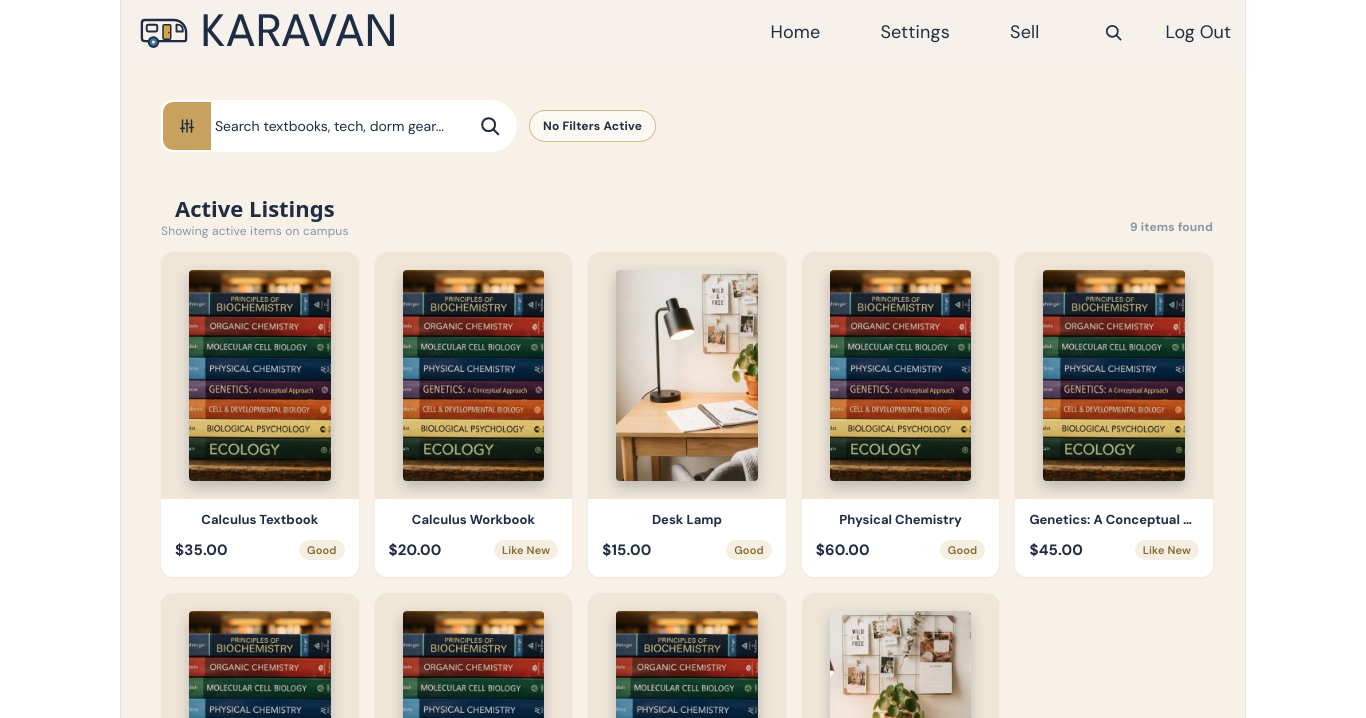
ProductSearch category filtering › uses OR for multiple categories
This screenshot has width=1366, height=718.
Step 1. Click the button named "Open filters" → x=187, y=126, box x1=163 y1=102 x2=211 y2=150
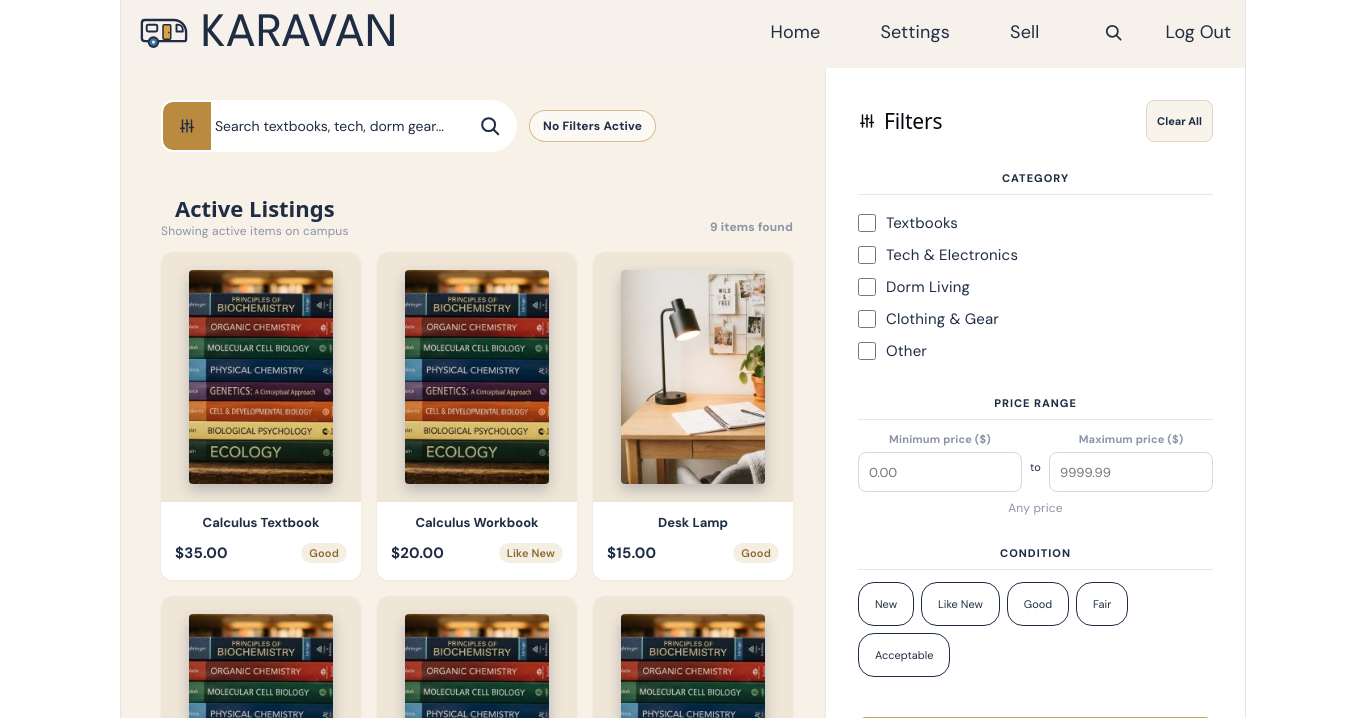
Step 2. Click the checkbox labelled "Textbooks" → x=867, y=223, box x1=858 y1=214 x2=876 y2=232
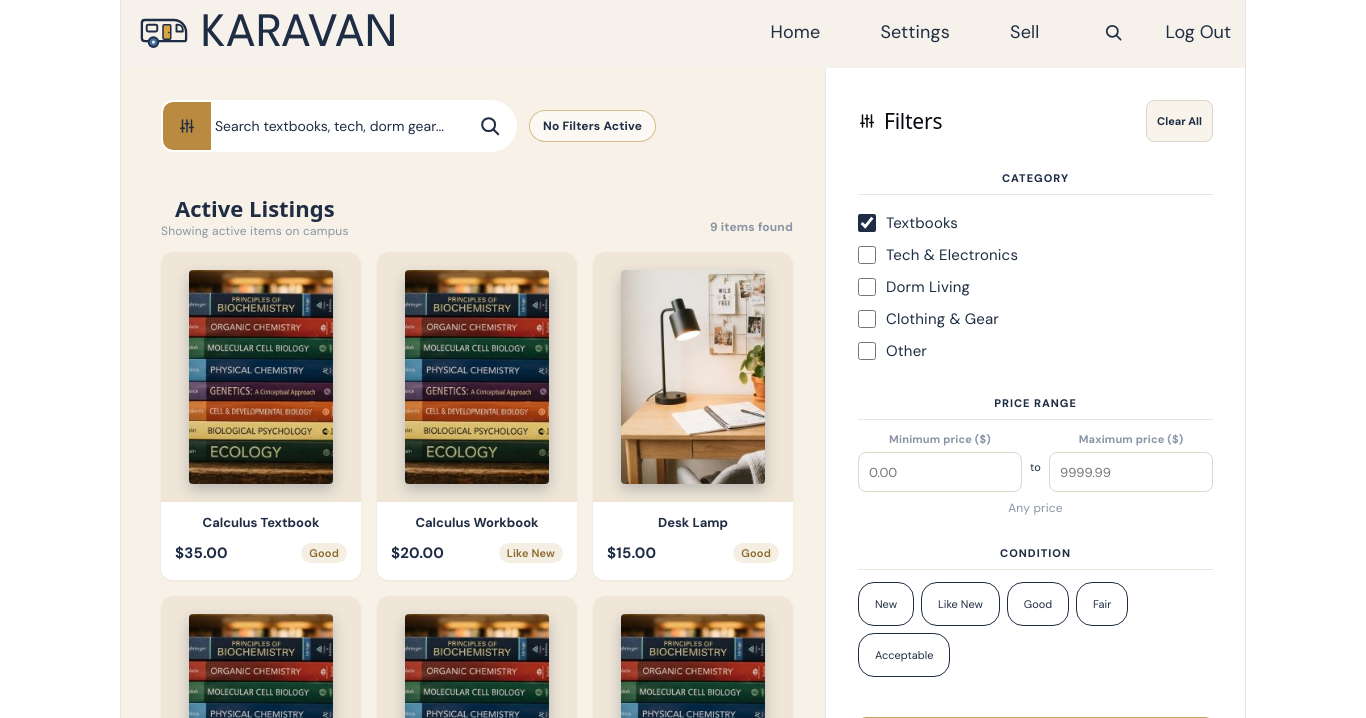
Step 3. Click the checkbox labelled "Dorm Living" → x=867, y=287, box x1=858 y1=278 x2=876 y2=296
(page scrolled)
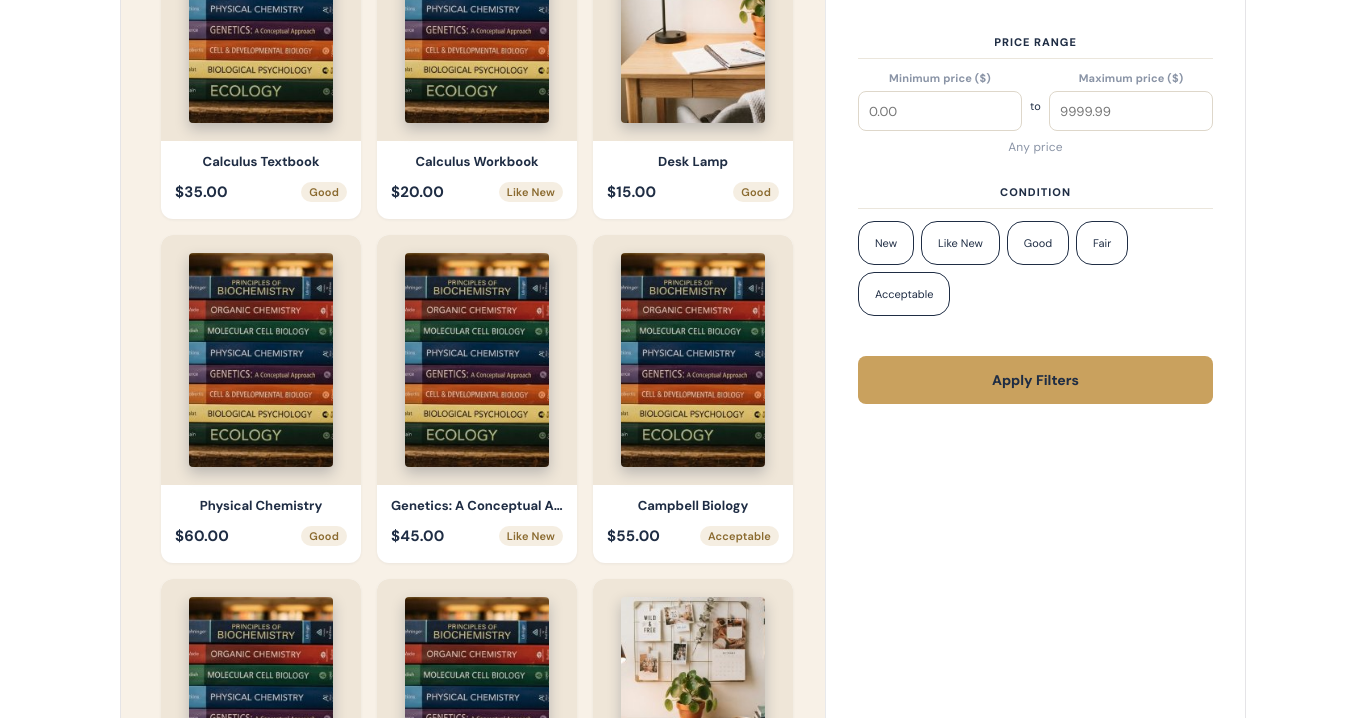
Step 4. Click the button "Apply Filters" → x=1036, y=380, box x1=858 y1=356 x2=1213 y2=404
Wait 350 ms
(page scrolled)
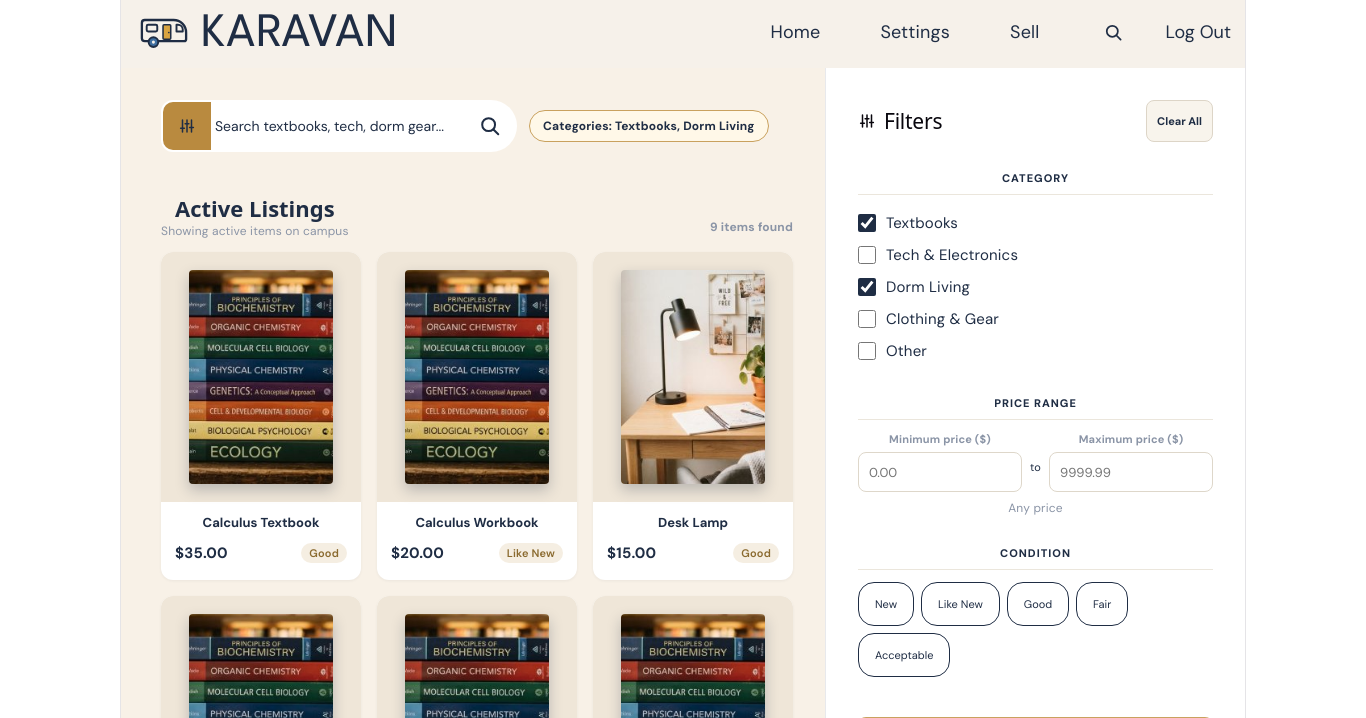
Expected: the link "Calculus Textbook" is shown, x1=202 y1=514 x2=319 y2=531
Result: the text "Categories: Textbooks, Dorm Living" is shown at x1=529 y1=110 x2=769 y2=142
